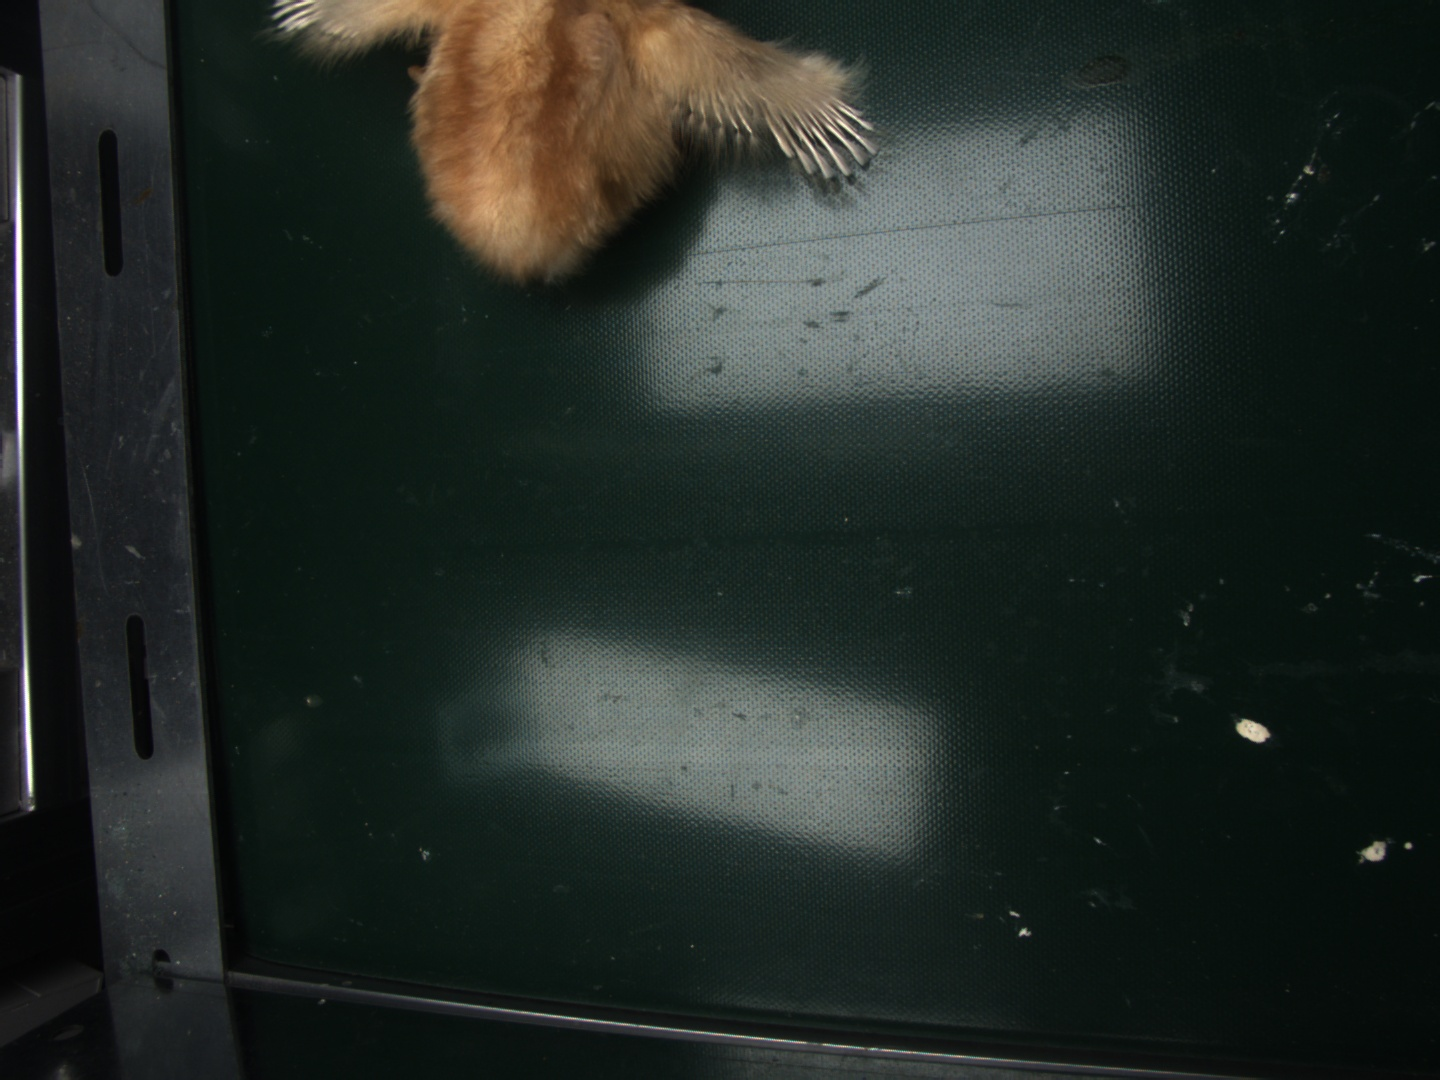female: (776, 93, 871, 172)
